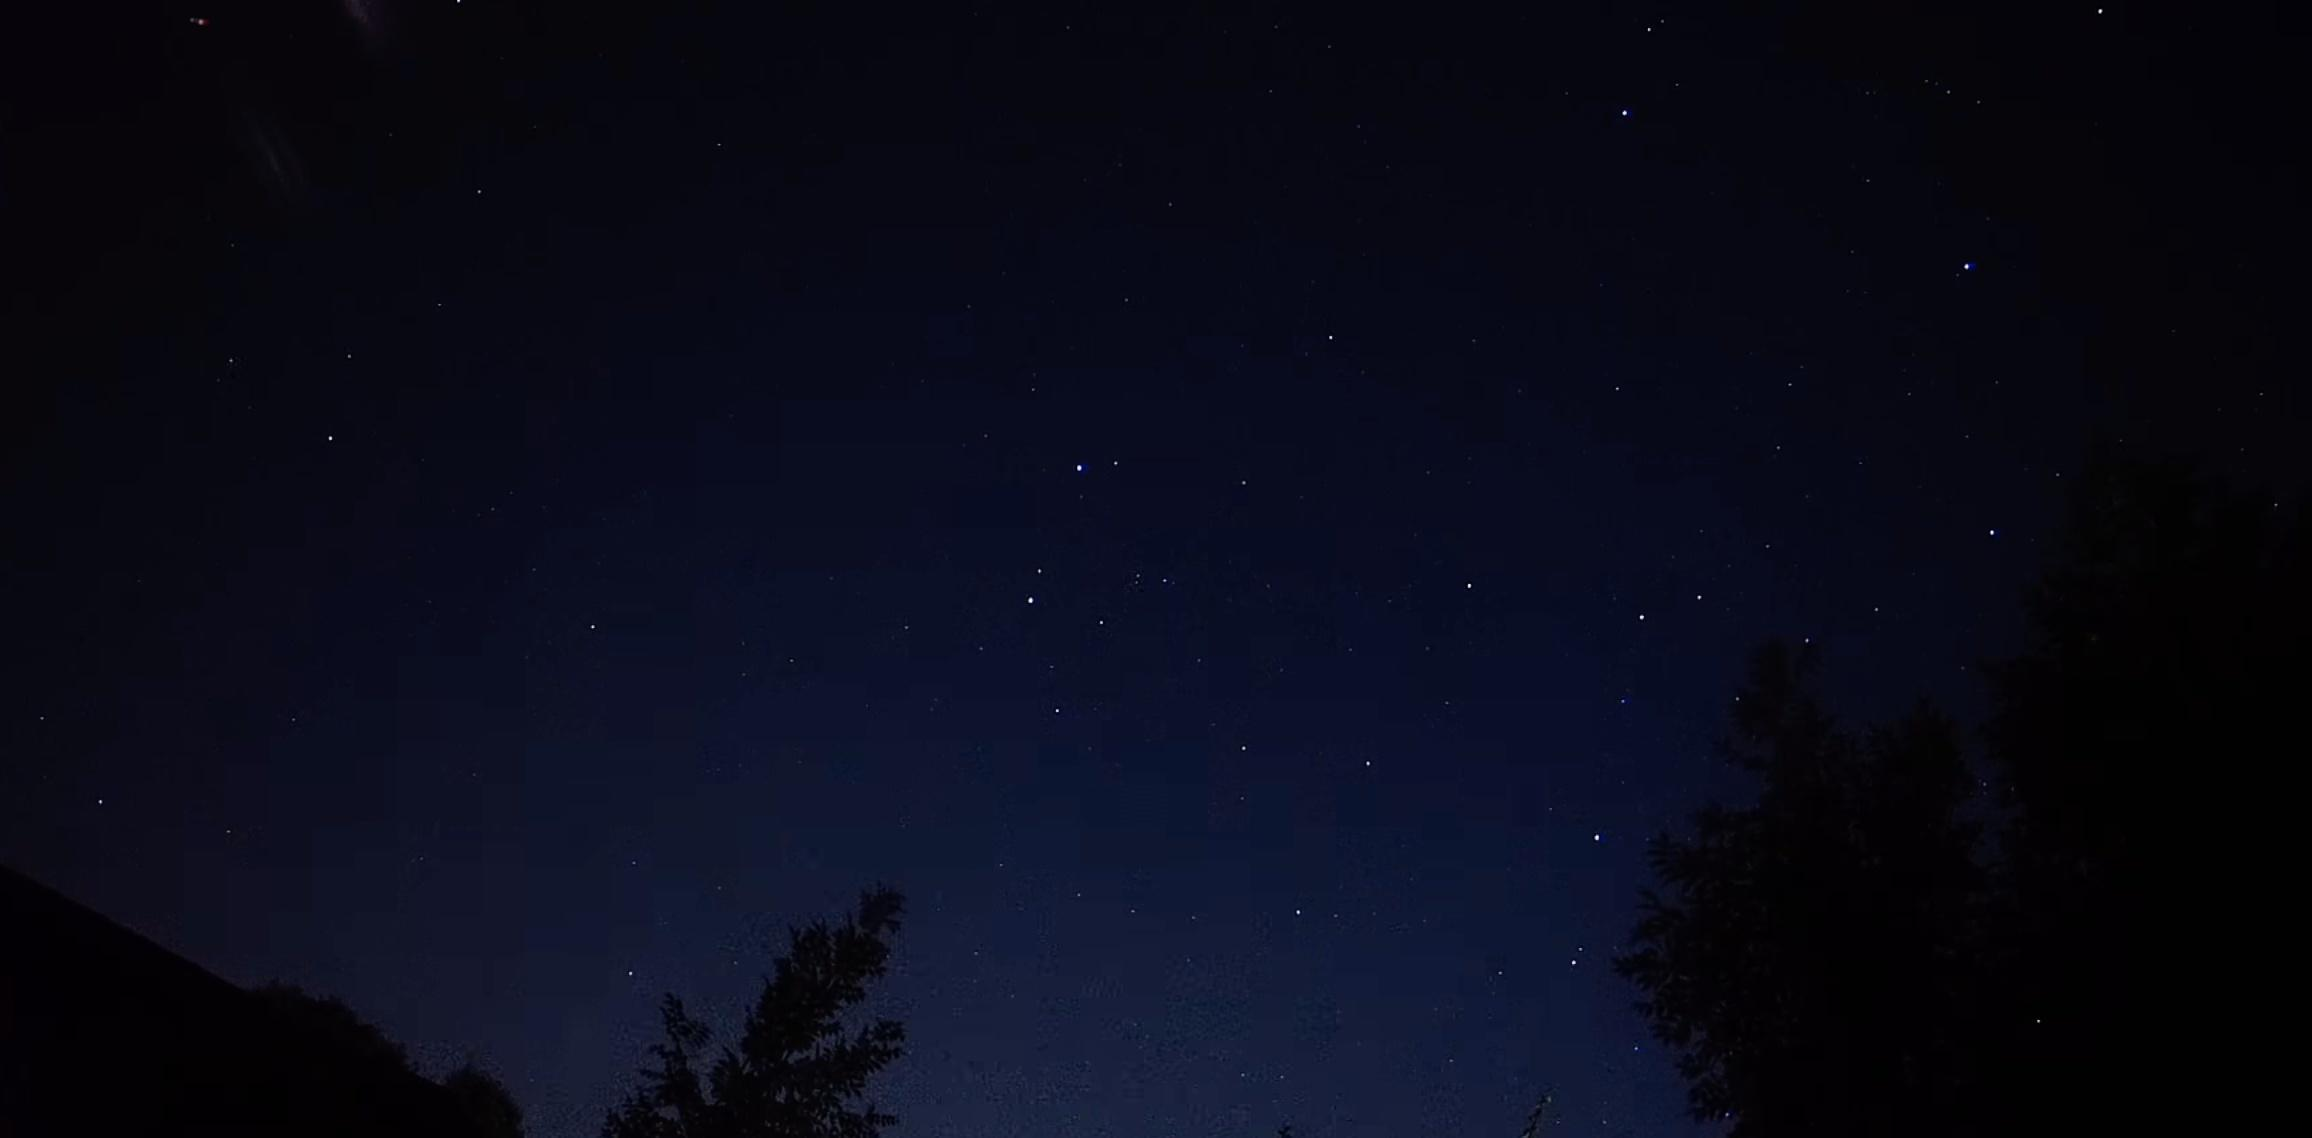Plane: (168, 6, 242, 37)
